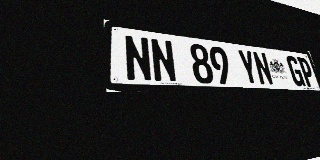8: (188, 43, 215, 84)
9: (208, 45, 233, 84)
G: (285, 55, 306, 87)
N: (123, 34, 153, 82), (149, 38, 178, 83), (252, 51, 274, 86)
P: (297, 57, 317, 87)
Y: (236, 49, 260, 85)
